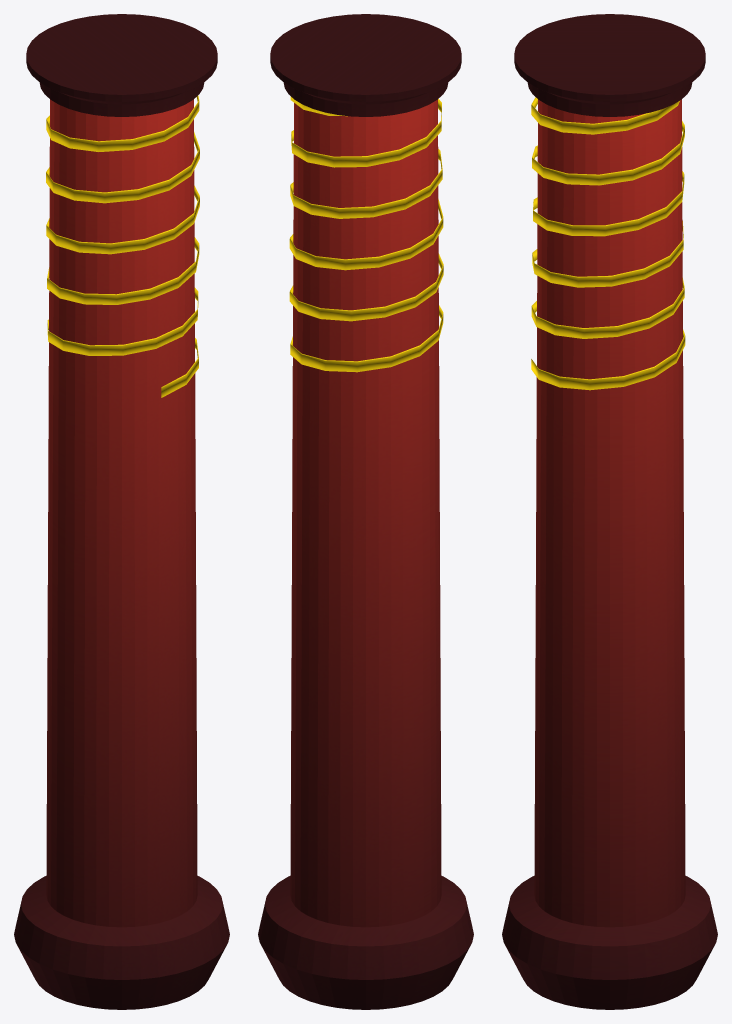
Rendered from Raven_Pillar.fbx.
3 views of the same model, side by side, from view 1: azimuth 30°, elevation 25°; view 2: azimuth 150°, elevation 25°; view 3: azimuth 270°, elevation 25° (orthographic).
Parts seen in each view (by area): view 1: Cylinder, Circle.002; view 2: Cylinder, Circle.002; view 3: Cylinder, Circle.002.
Boxes of the visible parts, bbox=[...] form: Cylinder: bbox=[14, 14, 229, 1009]; Circle.002: bbox=[46, 95, 199, 397]; Cylinder: bbox=[258, 14, 473, 1009]; Circle.002: bbox=[289, 96, 443, 372]; Cylinder: bbox=[502, 14, 717, 1009]; Circle.002: bbox=[531, 97, 685, 390].
Bounding box in the file's own units: 94.9 × 445 × 94.9.
2 materials, 1 textured.
